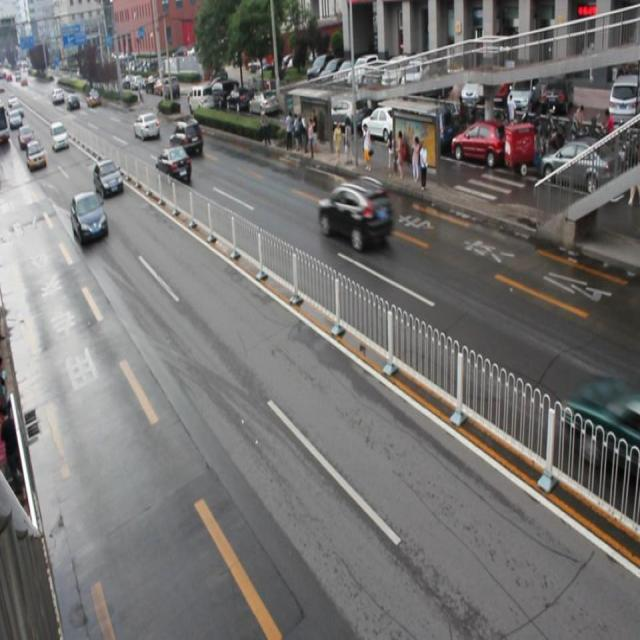car: (559, 375, 640, 475), (318, 177, 391, 250), (70, 191, 108, 243), (156, 145, 192, 183), (169, 118, 204, 156), (94, 158, 123, 196), (134, 112, 159, 138)
